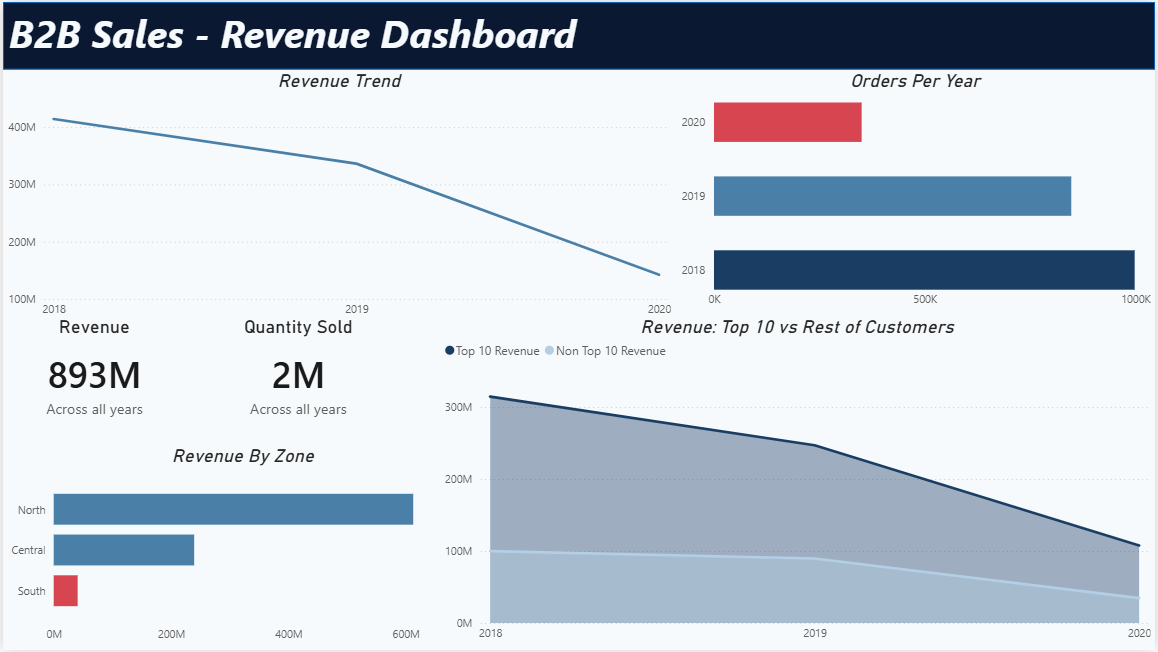

This screenshot's page, from the dashboard's own definition file:
{"tool":"powerbi","page":{"name":"Revenue Dashboard","canvas":[1280,780],"ordinal":0},"visuals":[{"type":"shape","box":[0,0,1279.5,80.3],"z":0,"group":"g1"},{"type":"cardVisual","title":"Revenue","fields":{"Data":["_Measures.Revenue"]},"box":[657.1,95,248.6,119.7],"z":0,"group":"g2"},{"type":"columnChart","title":"Revenue YoY% ","fields":{"Y":["_Measures.Sum of sales_amount YoY%"],"Category":["sales date.year"]},"box":[927.8,95,335.6,668.1],"z":0},{"type":"textbox","box":[0,0,620.8,80.3],"z":1000,"group":"g1"},{"type":"lineChart","title":"Revenue Trend","fields":{"Y":["_Measures.Revenue"],"Category":["sales date.year Hierarchy.year","sales date.year Hierarchy.Quarter","sales date.year Hierarchy.month_name","sales date.year Hierarchy.date"]},"box":[0,87.1,639.6,308.7],"z":1000},{"type":"cardVisual","title":"Revenue","fields":{"Data":["_Measures.Order Volume"]},"box":[657.1,215.3,250.2,120.3],"z":1000,"group":"g2"},{"type":"cardVisual","title":"Order Volume","fields":{"Data":["_Measures.Change In Order Volume 2018-19"]},"box":[657.1,335.7,250.2,120.3],"z":2000,"group":"g2"},{"type":"tableEx","title":"Top 10 Customers","fields":{"Values":["sales customers.customer_name","_Measures.Revenue Share%"]},"box":[657.1,460.7,258.1,319.8],"z":2000},{"type":"areaChart","title":"Order Volume  : Top 10 vs Other Customers","fields":{"Y":["_Measures.Top 10 Order Volume","_Measures.Non Top 10 Order Volume"],"Category":["sales date.year Hierarchy.year","sales date.year Hierarchy.Quarter","sales date.year Hierarchy.month_name","sales date.year Hierarchy.date"]},"box":[0,429.1,657.1,334.1],"z":3000},{"type":"group","id":"g1","title":"Group 1","box":[0,0,1279.5,80.7],"z":4000},{"type":"group","id":"g2","title":"Group 2","box":[657.1,95,250.2,361],"z":5000},{"type":"pageNavigator","box":[639.6,0,639.6,80.7],"z":5003,"group":"g1"},{"type":"actionButton","box":[0,752,310.3,28.5],"z":6000}]}

Visuals, with their boxes on the page's 1280x780 design canvas (x1, y1, x2, y2). These are canvas units, not pixel positions in the 1158x652 screenshot, which may show the page scaled, cropped or inside an application window:
shape: <box>0,0,1280,80</box>
"Revenue" cardVisual: <box>657,95,906,215</box>
"Revenue YoY% " columnChart: <box>928,95,1263,763</box>
textbox: <box>0,0,621,80</box>
"Revenue Trend" lineChart: <box>0,87,640,396</box>
"Revenue" cardVisual: <box>657,215,907,336</box>
"Order Volume" cardVisual: <box>657,336,907,456</box>
"Top 10 Customers" tableEx: <box>657,461,915,780</box>
"Order Volume  : Top 10 vs Other Customers" areaChart: <box>0,429,657,763</box>
"Group 1" group: <box>0,0,1280,81</box>
"Group 2" group: <box>657,95,907,456</box>
pageNavigator: <box>640,0,1279,81</box>
actionButton: <box>0,752,310,780</box>
